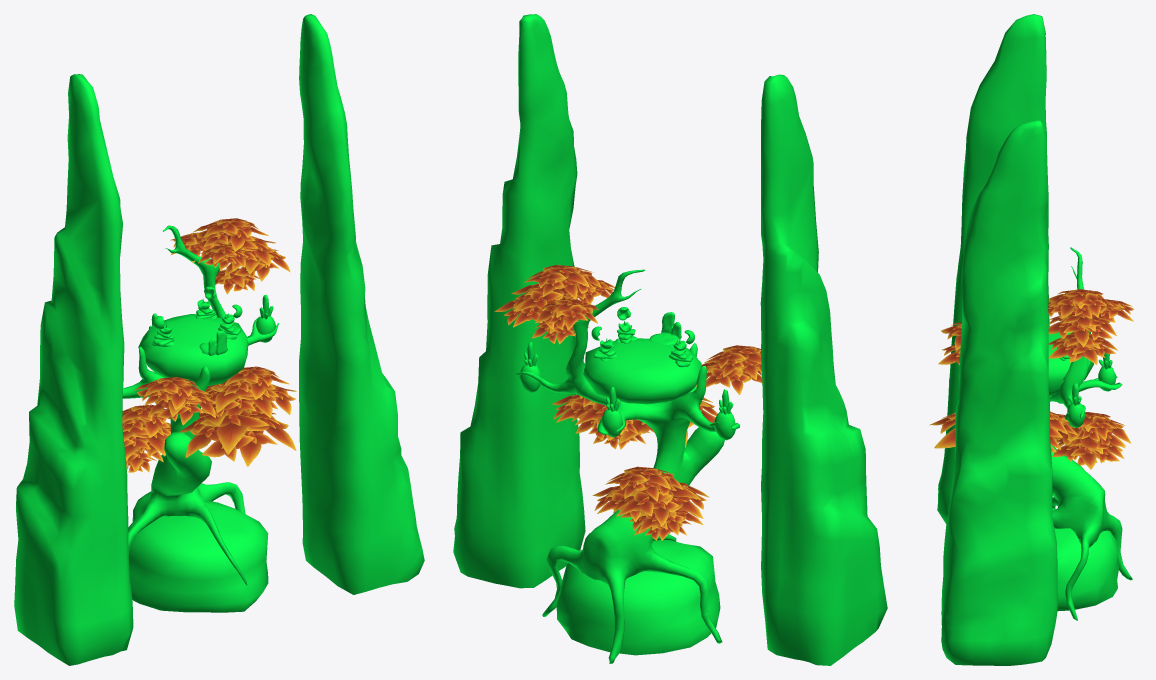
The model's file is Pond Shrine.FBX.
3 renders of one model, left to right at view 1: azimuth 30°, elevation 25°; view 2: azimuth 150°, elevation 25°; view 3: azimuth 270°, elevation 25°, orthographic. The views are drawn at different scales.
Parts seen in each view (by area): view 1: Pillars, Tree with Base, Leaves; view 2: Pillars, Tree with Base, Leaves, Small Crystal 3, Small Crystal 2, Small Crystal 1, Shrine Rocks; view 3: Pillars, Tree with Base, Leaves, Small Crystal 1, Small Crystal 3.
Part boxes in pixels (bbox=[...]): Pillars: bbox=[14, 14, 424, 665]; Tree with Base: bbox=[122, 225, 278, 612]; Leaves: bbox=[122, 218, 296, 472]; Pillars: bbox=[453, 14, 887, 665]; Tree with Base: bbox=[515, 269, 739, 663]; Leaves: bbox=[494, 265, 762, 540]; Small Crystal 3: bbox=[601, 386, 622, 437]; Small Crystal 2: bbox=[714, 389, 735, 440]; Small Crystal 1: bbox=[519, 341, 540, 392]; Shrine Rocks: bbox=[649, 312, 681, 344]; Pillars: bbox=[937, 14, 1057, 665]; Tree with Base: bbox=[1048, 247, 1132, 620]; Leaves: bbox=[929, 289, 1133, 469]; Small Crystal 1: bbox=[1067, 383, 1085, 427]; Small Crystal 3: bbox=[1098, 347, 1116, 391].
Bounding box in the file's own units: 152 × 212 × 83.78.
